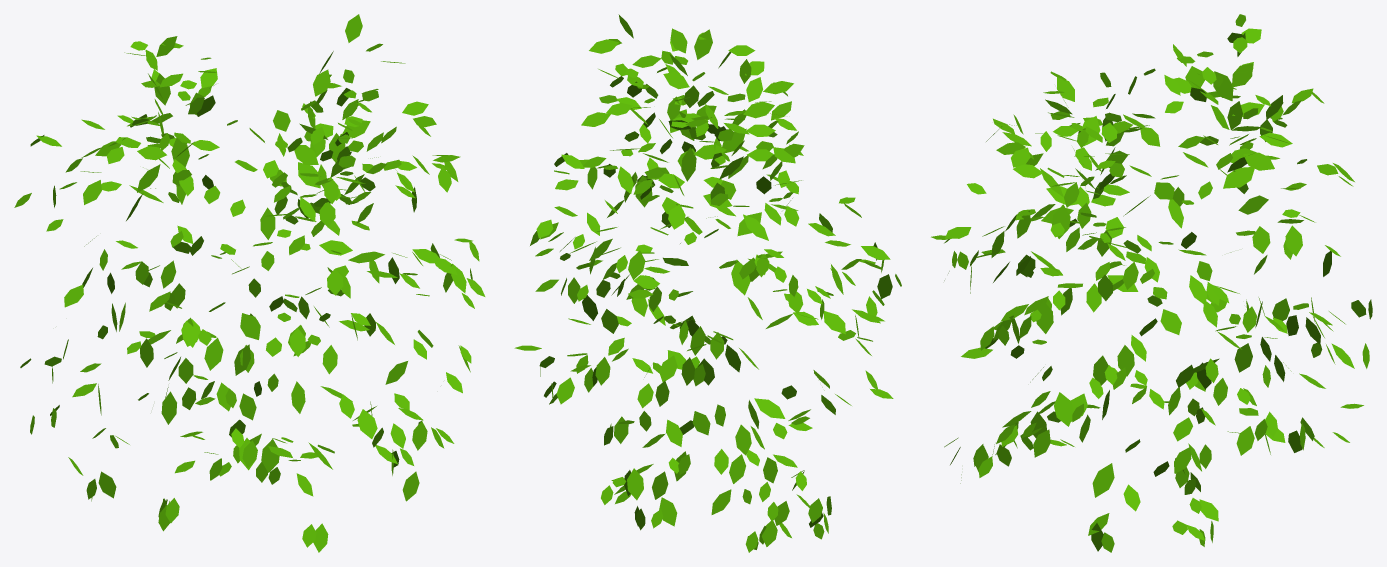
The model's file is TREE_LEAF_4.fbx.
The picture shows the model from 3 angles, left to right: view 1: azimuth 30°, elevation 25°; view 2: azimuth 150°, elevation 25°; view 3: azimuth 270°, elevation 25°; orthographic projection. The views are drawn at different scales.
Visible parts, largest first — view 1: leaves.006; view 2: leaves.006; view 3: leaves.006.
Boxes of the visible parts, <box> form: leaves.006: <box>14,14,485,552</box>; leaves.006: <box>514,14,901,552</box>; leaves.006: <box>931,14,1372,552</box>.
Bounding box in the file's own units: 751 × 952 × 761.
